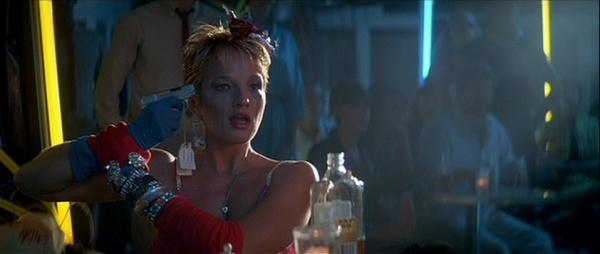Gun: (139, 80, 196, 111)
